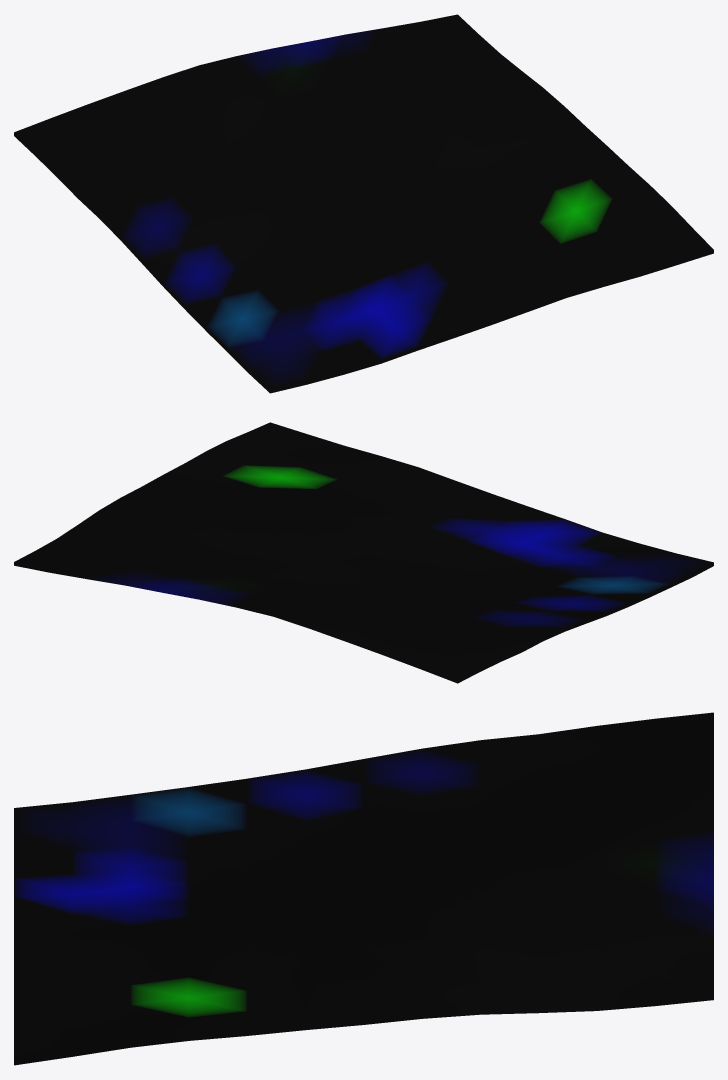
The model's file is coast_2_0.glb.
3 renders of one model, top to bottom at view 1: azimuth 30°, elevation 25°; view 2: azimuth 150°, elevation 25°; view 3: azimuth 270°, elevation 25°, orthographic. The views are drawn at different scales.
Visible parts, largest first — view 1: terrain; view 2: terrain; view 3: terrain.
Boxes of the visible parts, box(x1,y1,x2,y2) form: terrain: box(14, 14, 713, 393); terrain: box(14, 422, 713, 683); terrain: box(14, 712, 713, 1065).
Bounding box in the file's own units: 192 × 39.58 × 192.
